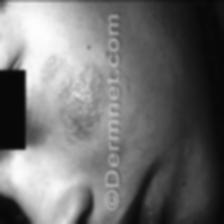Unclassified: (57, 37, 107, 145), (38, 42, 66, 90)
